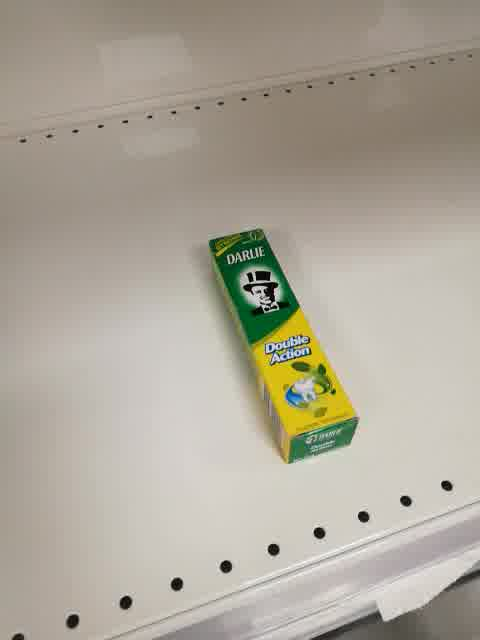toothpaste: (206, 228, 360, 463)
